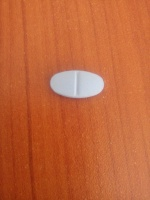Majezik: (48, 69, 107, 100)
